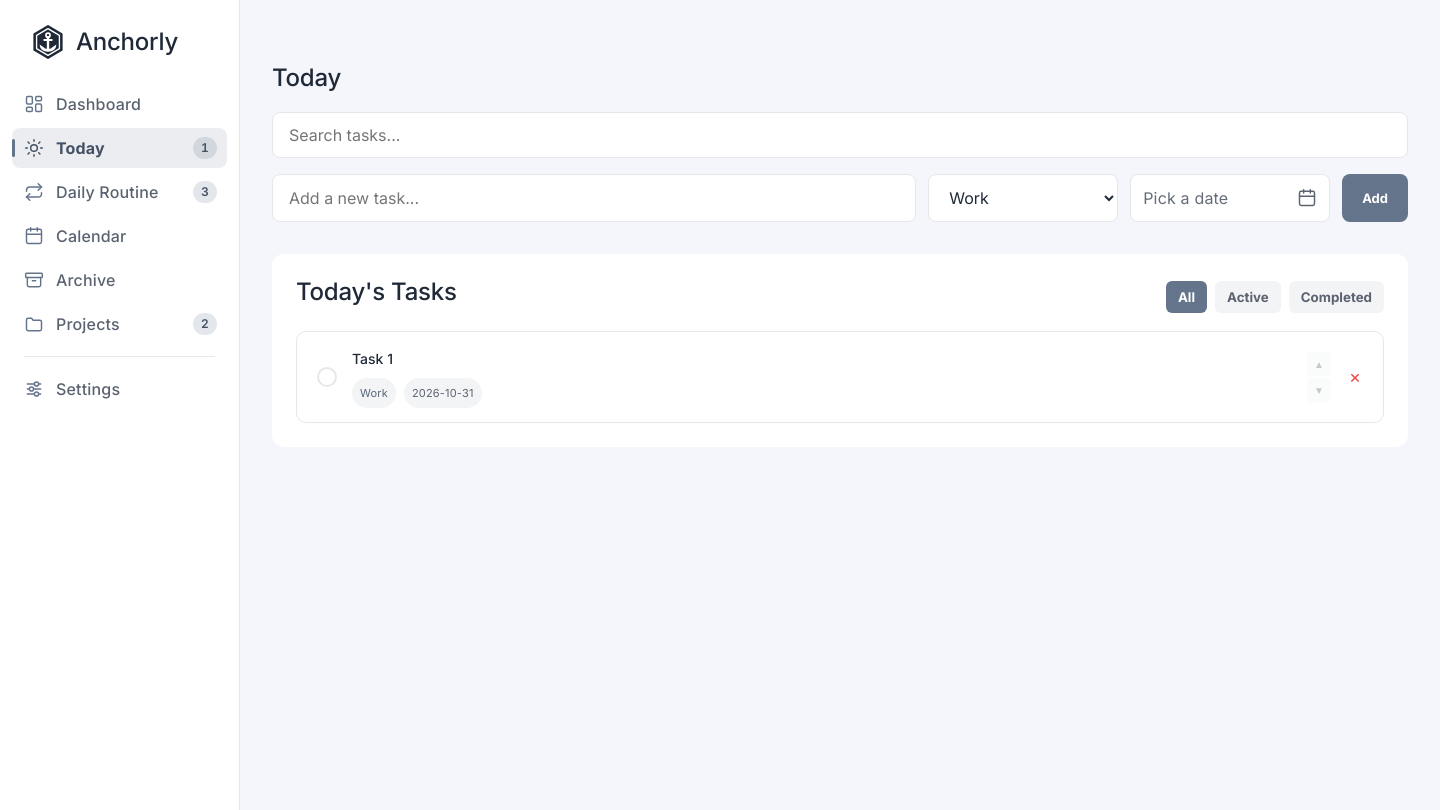
App task detail dialog › opens the task as a labelled dialog
The image size is (1440, 810).
Click the button "Task 1": (372, 359) left=352, top=346, right=393, bottom=372
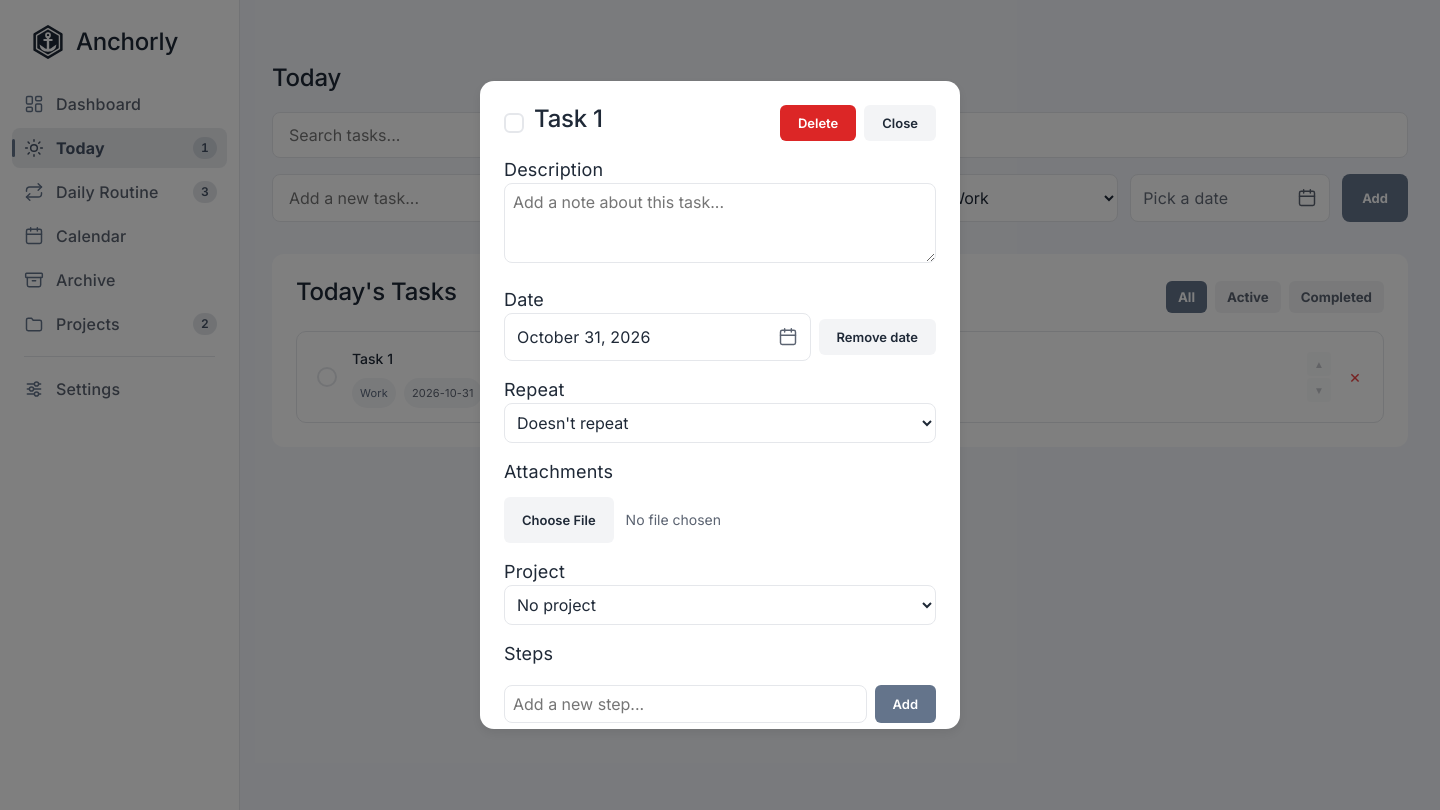
Now the dialog "Task 1" is shown, box left=480, top=81, right=960, bottom=729
